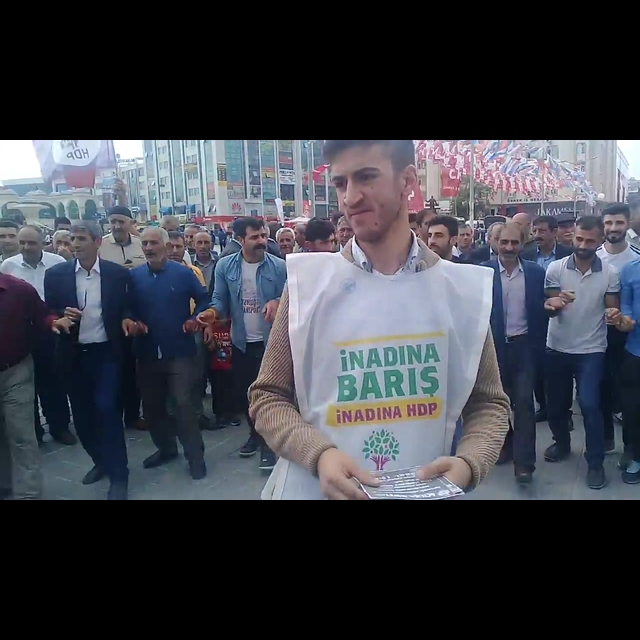HDP: (358, 429, 404, 472)
